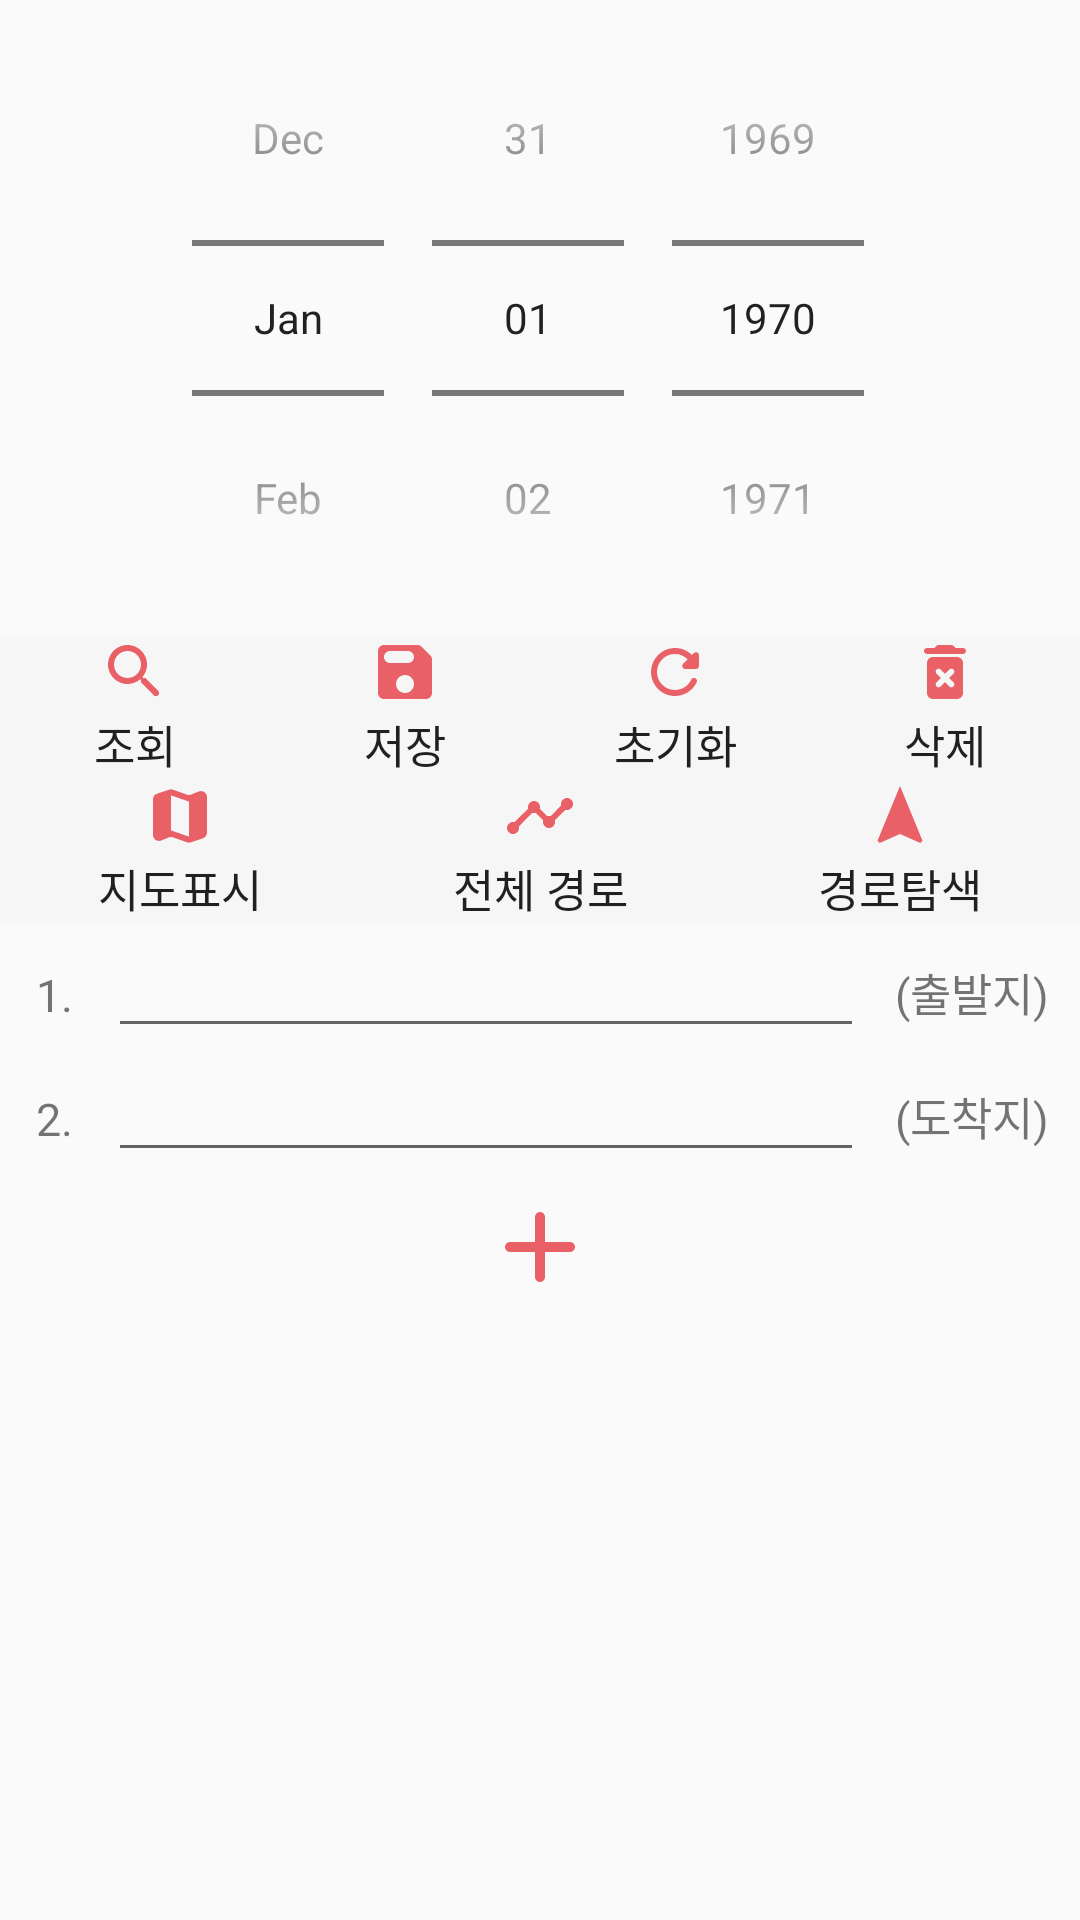

Icon click points for this 1080px x 1920px phone screenshot, format [x,y]:
add: [540,1247]
